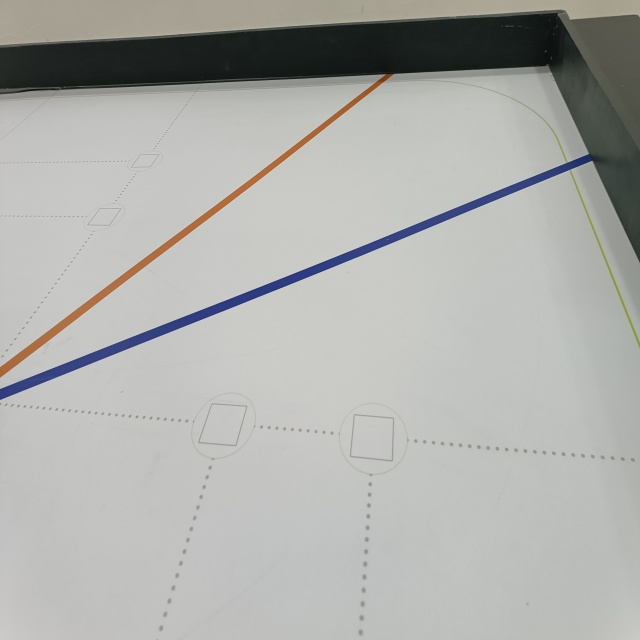blue line: (0, 137, 614, 404)
orange line: (0, 59, 403, 390)
